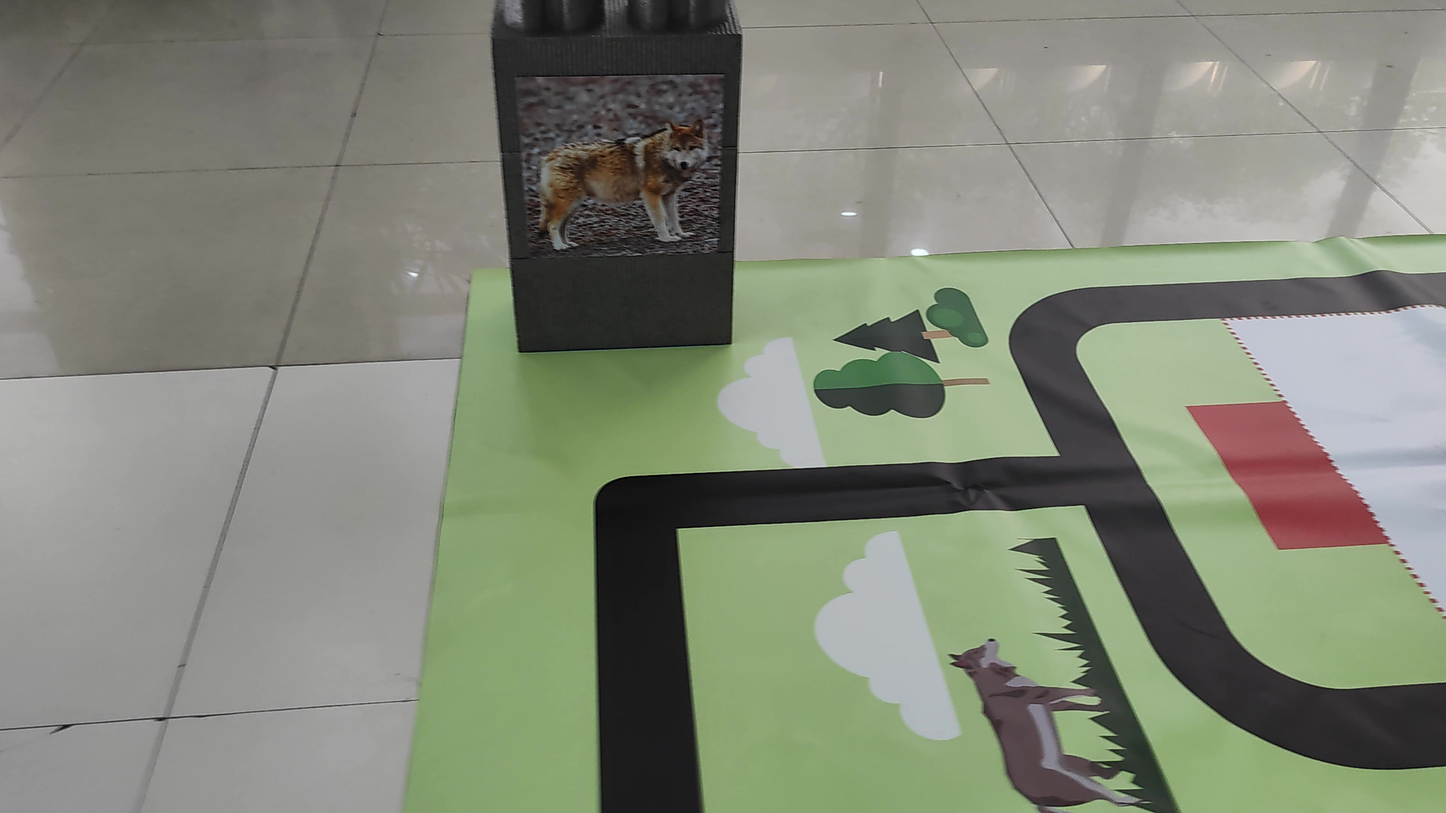wolf: (535, 79, 728, 260)
